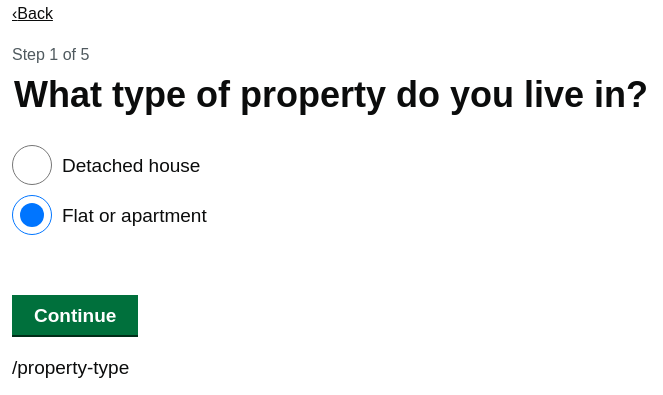
Test: QuestionPage › 5. when URL has ?from=check-answers, Continue navigates to /check-answers
Click the radio button labelled "Detached house": {"x": 32, "y": 165} [12,145,52,185]
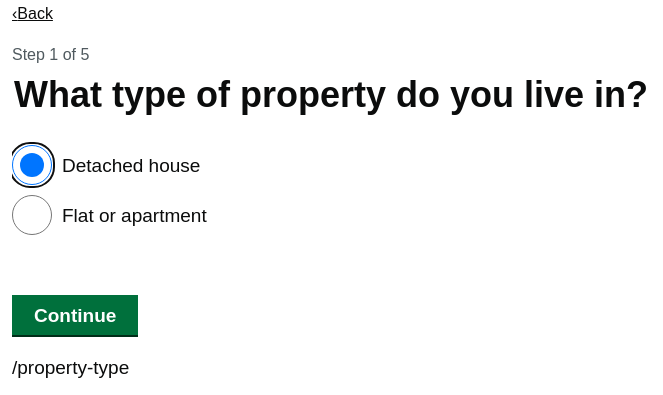
Click the button "Continue": {"x": 75, "y": 315} [12,295,138,335]
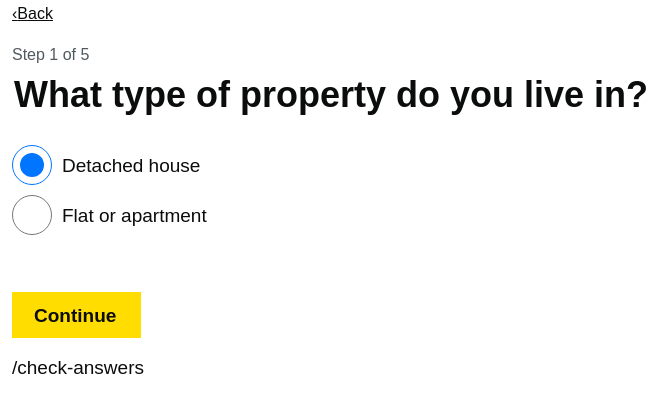
Expected: the text with test id "location" reads "/check-answers", [12,357,144,378]
